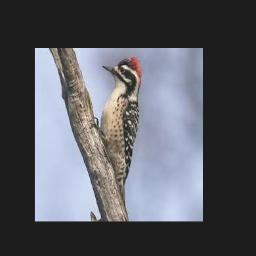Woodpecker: (91, 57, 143, 205)
